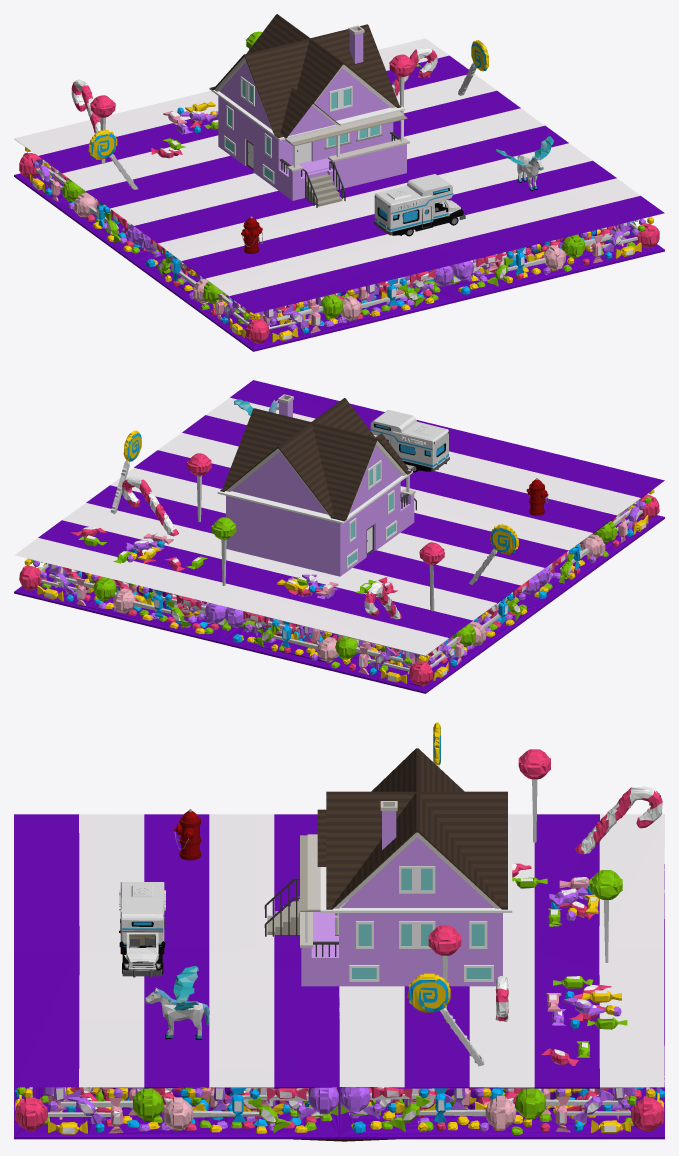
The picture shows the model from 3 angles, top to bottom: view 1: azimuth 30°, elevation 25°; view 2: azimuth 150°, elevation 25°; view 3: azimuth 270°, elevation 25°; orthographic projection. The views are drawn at different scales.
Parts seen in each view (by area): view 1: TERRAIN_CANDY, Cube.391, VEHICLES_CAMPER, ANIMAL_PEGASO, OBJRANDOM_FIRE_HYDRANT; view 2: TERRAIN_CANDY, Cube.391, VEHICLES_CAMPER, OBJRANDOM_FIRE_HYDRANT; view 3: TERRAIN_CANDY, Cube.391, VEHICLES_CAMPER, ANIMAL_PEGASO, OBJRANDOM_FIRE_HYDRANT.
Part boxes in pixels (x1,y1,x2,y2): TERRAIN_CANDY: (14, 31, 664, 351); Cube.391: (209, 14, 409, 207); VEHICLES_CAMPER: (374, 174, 465, 236); ANIMAL_PEGASO: (496, 136, 553, 190); OBJRANDOM_FIRE_HYDRANT: (241, 216, 262, 253); TERRAIN_CANDY: (14, 380, 664, 693); Cube.391: (217, 394, 416, 576); VEHICLES_CAMPER: (370, 410, 449, 472); OBJRANDOM_FIRE_HYDRANT: (526, 478, 548, 515); TERRAIN_CANDY: (14, 722, 664, 1139); Cube.391: (264, 748, 512, 986); VEHICLES_CAMPER: (119, 882, 165, 977); ANIMAL_PEGASO: (145, 966, 209, 1039); OBJRANDOM_FIRE_HYDRANT: (174, 809, 200, 860).
Size of the model in its own units: 4059 by 1650 by 4000.
Materials: 33 (2 with a texture image).
